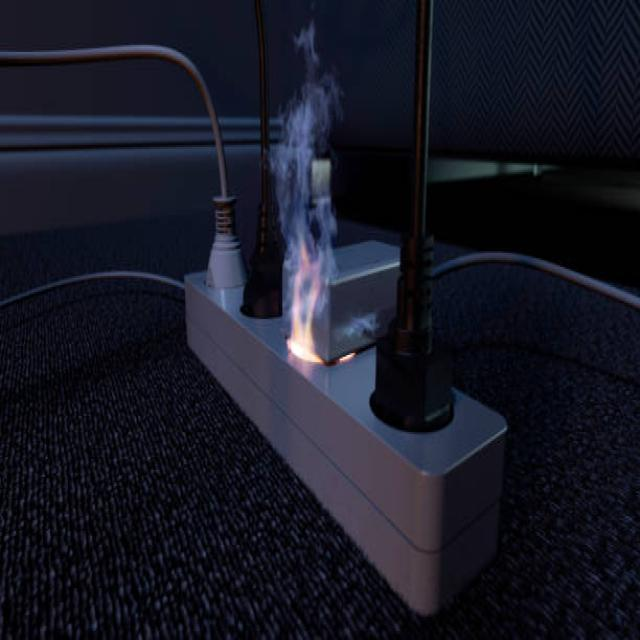fire: (279, 239, 362, 374)
